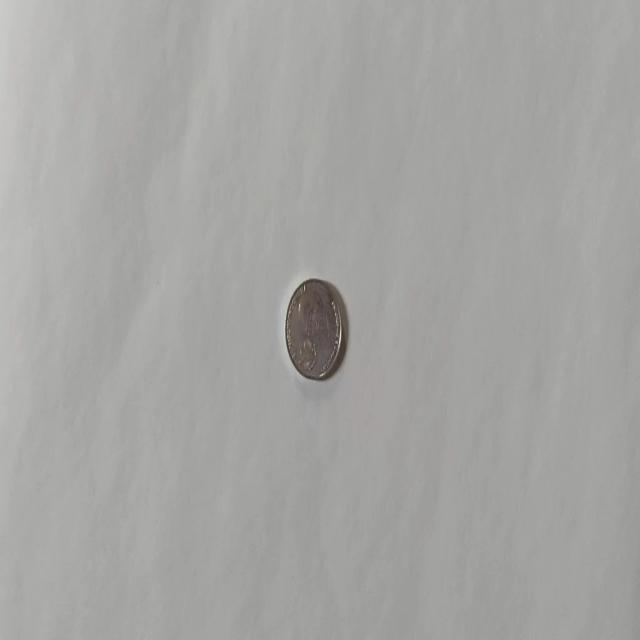lima ratus rupiah: (284, 276, 342, 381)
